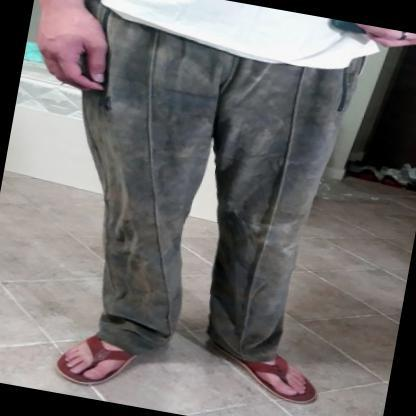no_safety-shoe: (24, 311, 162, 406), (199, 339, 341, 415)
